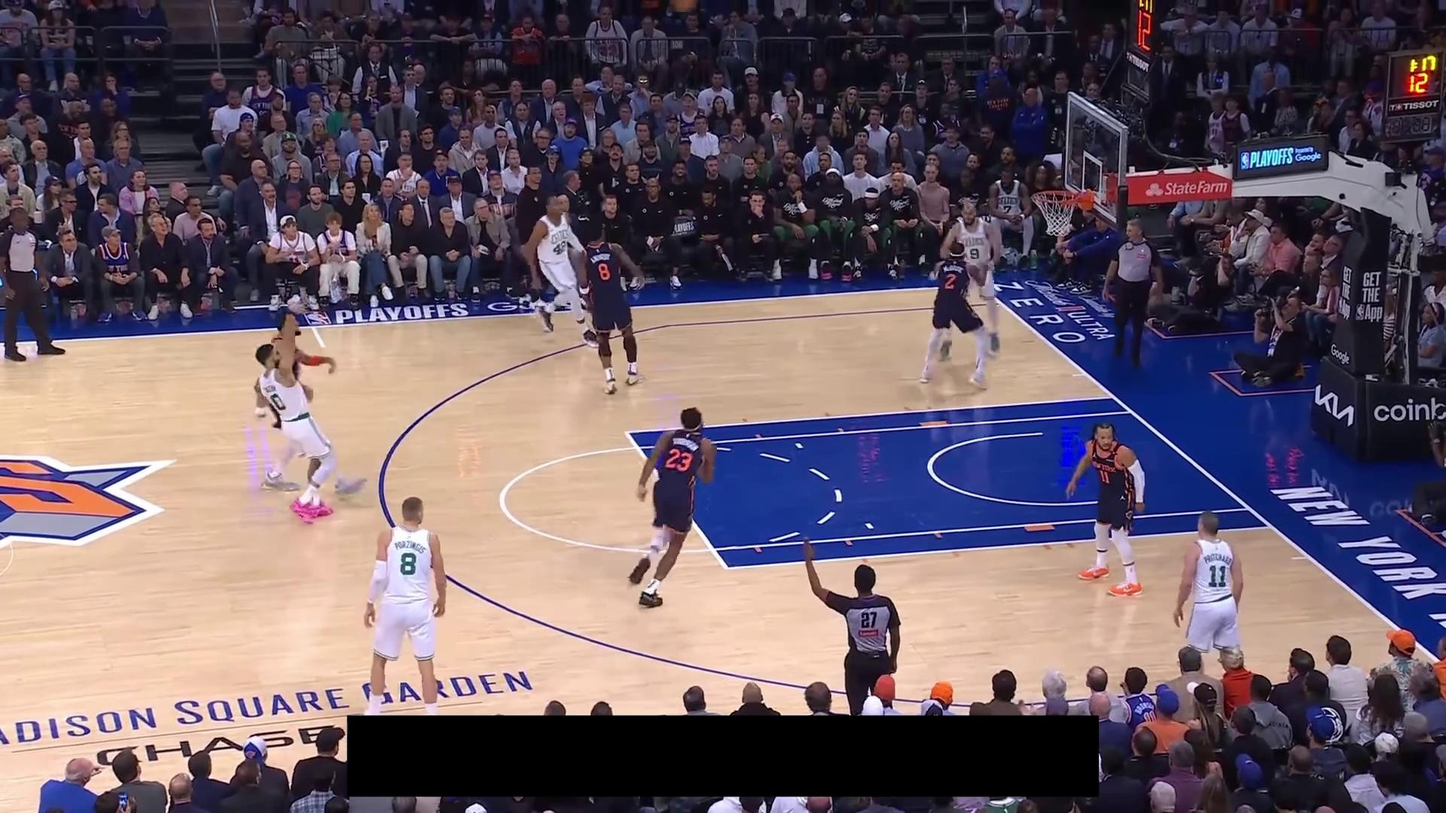ball: (670, 0, 697, 14)
number: (666, 448, 693, 471), (1208, 565, 1228, 588), (400, 552, 417, 576), (268, 392, 286, 410), (597, 262, 611, 282), (553, 239, 567, 256), (944, 273, 957, 290), (1099, 468, 1111, 486), (969, 247, 981, 260)
player: (254, 311, 367, 499), (362, 495, 449, 716), (627, 403, 718, 610), (254, 301, 335, 524), (1065, 420, 1148, 600), (1168, 509, 1250, 675), (572, 219, 648, 396), (523, 193, 600, 349), (919, 240, 993, 390), (938, 197, 1004, 359)
referee: (802, 535, 901, 715), (0, 206, 67, 362), (1102, 217, 1165, 371)
rim: (1031, 189, 1079, 205)
